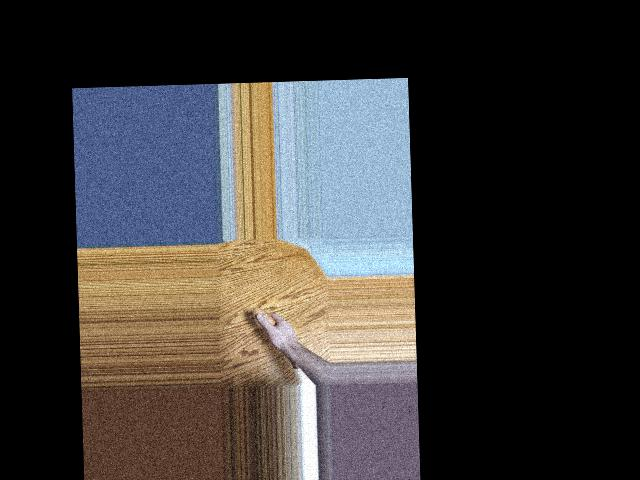sweet_potato: (252, 305, 303, 373)
